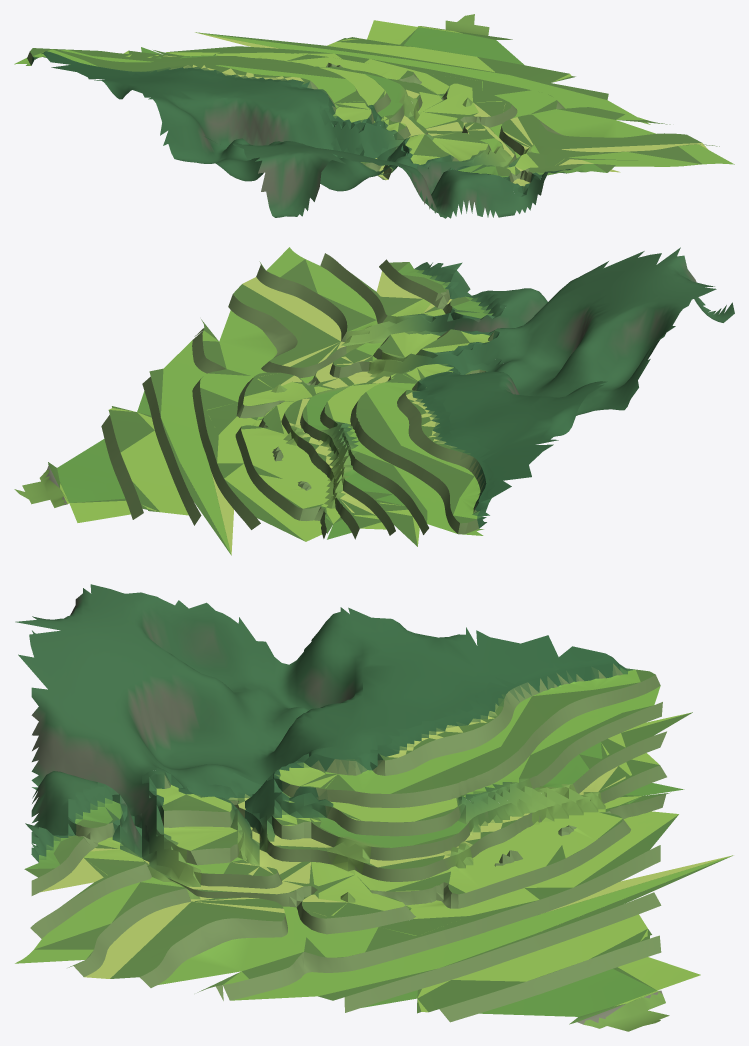
The model's file is payo_land_xm3_y7.glb.
The picture shows the model from 3 angles, top to bottom: view 1: azimuth 30°, elevation 25°; view 2: azimuth 150°, elevation 25°; view 3: azimuth 270°, elevation 25°; orthographic projection. The views are drawn at different scales.
Visible parts, largest first — view 1: payo_land_xm3_y7; view 2: payo_land_xm3_y7; view 3: payo_land_xm3_y7.
Boxes of the visible parts, x1,y1,x2,y2 form: payo_land_xm3_y7: [14, 14, 734, 218]; payo_land_xm3_y7: [14, 247, 734, 555]; payo_land_xm3_y7: [15, 584, 733, 1031].
Size of the model in its own units: 270 by 79.39 by 294.
